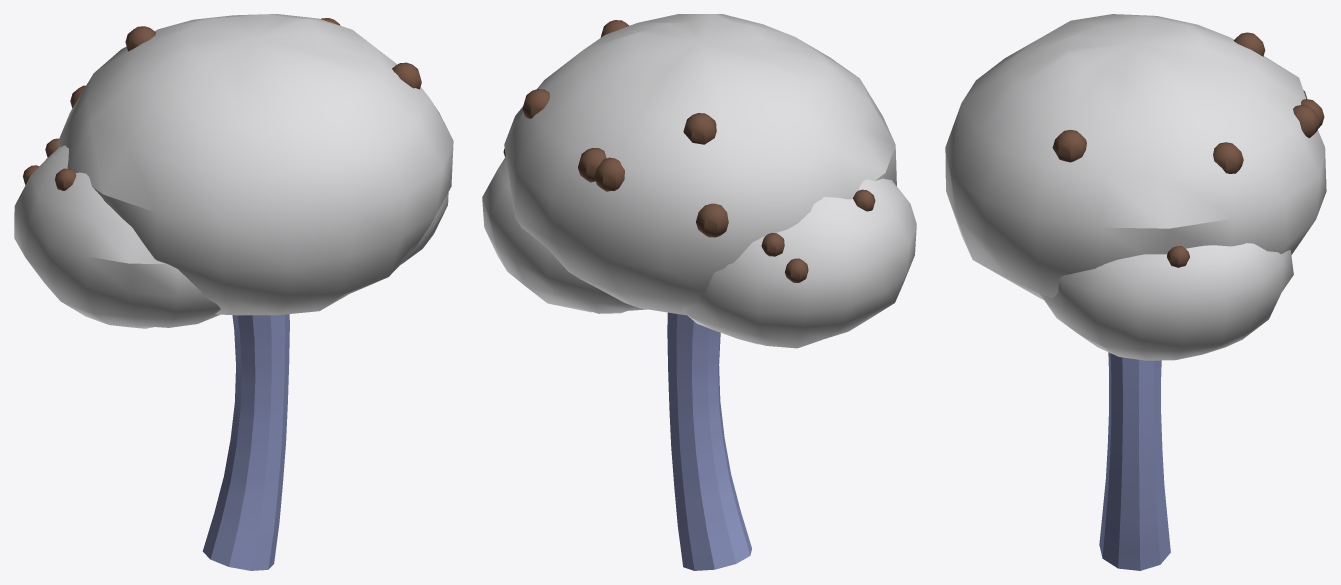
File: CreamPuffTree_A.fbx
The picture shows the model from 3 angles, left to right: view 1: azimuth 30°, elevation 25°; view 2: azimuth 150°, elevation 25°; view 3: azimuth 270°, elevation 25°; orthographic projection.
Parts seen in each view (by area): view 1: CreamPuffTree_A; view 2: CreamPuffTree_A; view 3: CreamPuffTree_A.
Boxes of the visible parts, box(x1,y1,x2,y2) form: CreamPuffTree_A: box(14, 14, 453, 570); CreamPuffTree_A: box(482, 14, 916, 570); CreamPuffTree_A: box(945, 14, 1326, 570).
Bounding box in the file's own units: 6.87 × 8.71 × 5.77.
